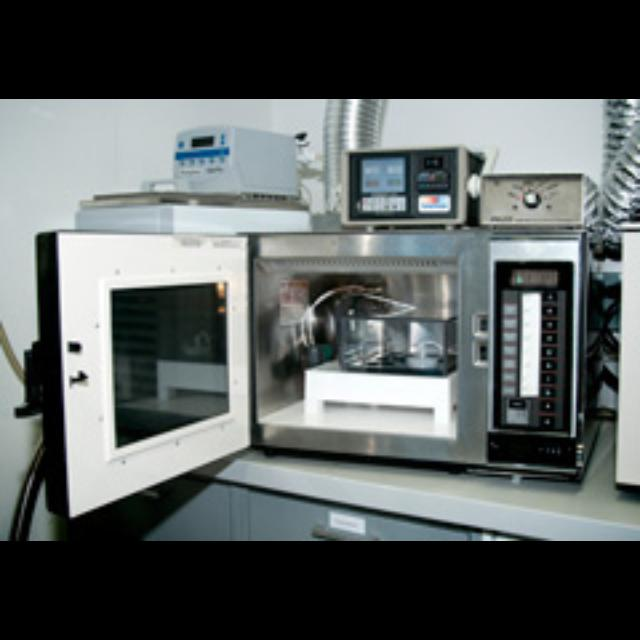Microwave: (37, 226, 587, 519), (339, 145, 488, 236)
